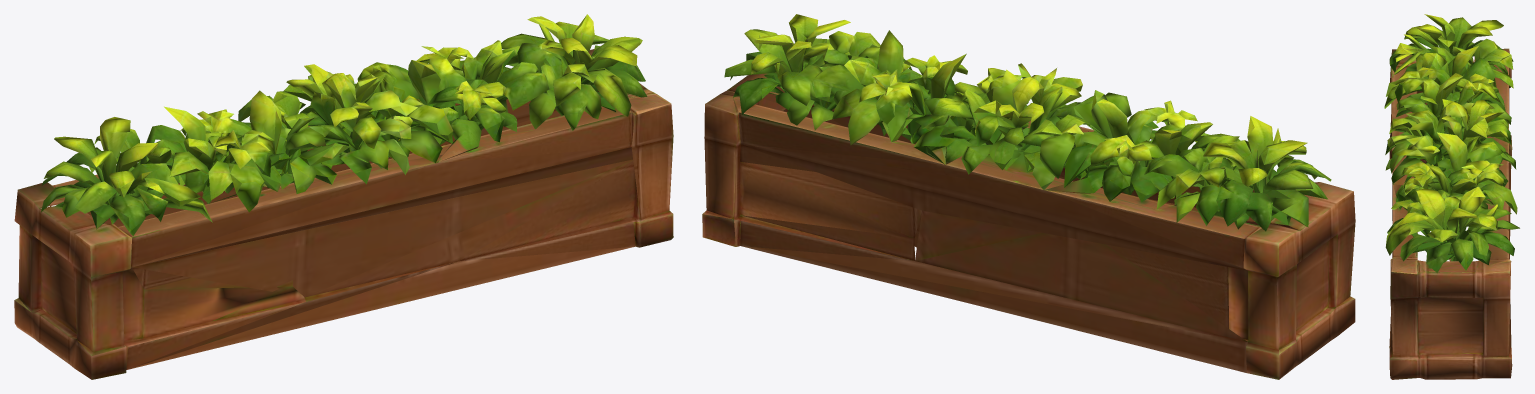
Rendered from planter.gltf.
3 views of the same model, side by side, from view 1: azimuth 30°, elevation 25°; view 2: azimuth 150°, elevation 25°; view 3: azimuth 270°, elevation 25° (orthographic). The views are drawn at different scales.
Visible parts, largest first — view 1: planter; view 2: planter; view 3: planter.
Boxes of the visible parts, box(x1,y1,x2,y2) form: planter: box(14, 14, 673, 379); planter: box(702, 14, 1355, 379); planter: box(1384, 14, 1519, 379).
Bounding box in the file's own units: 3.5 × 1.19 × 0.8902.
1 material, 1 textured.
